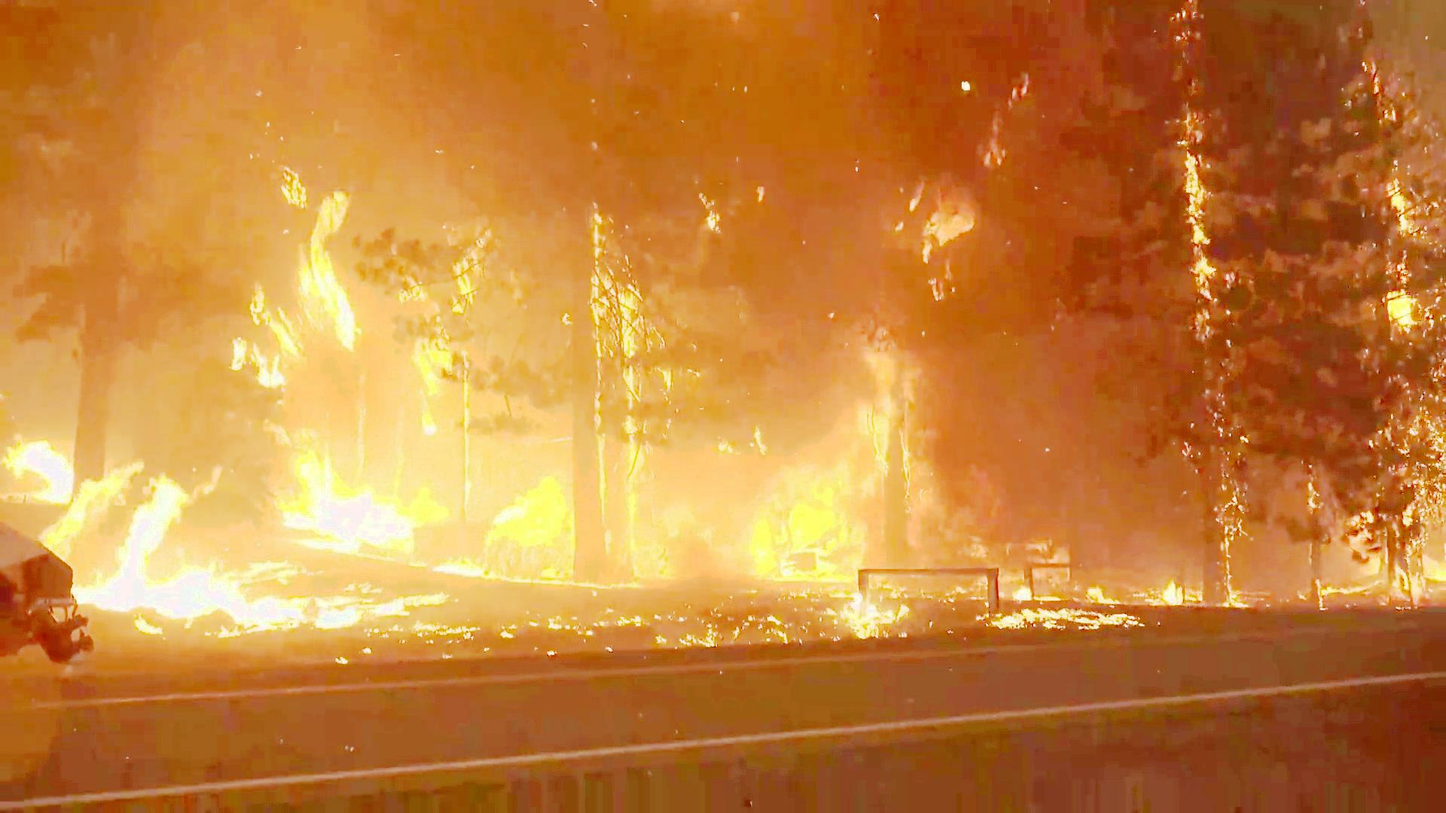fire: (21, 469, 204, 618), (1326, 473, 1446, 633), (274, 446, 433, 559), (748, 469, 872, 587), (286, 183, 368, 356), (475, 471, 592, 574), (0, 422, 78, 514)
